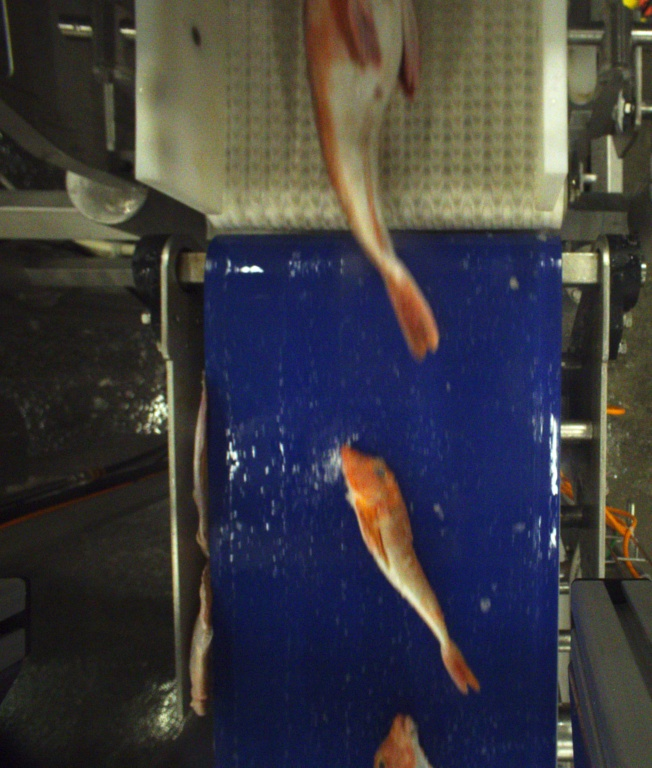GUU: (299, 0, 439, 361)
